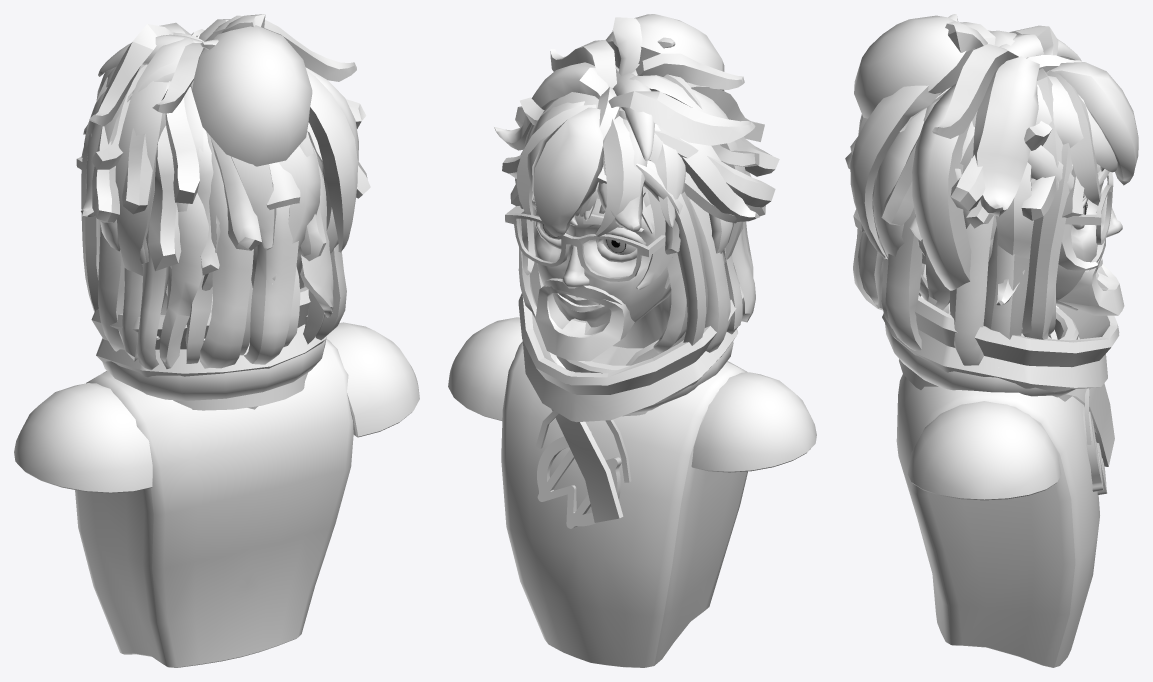
File: avatar.gltf
3 views of the same model, side by side, from view 1: azimuth 30°, elevation 25°; view 2: azimuth 150°, elevation 25°; view 3: azimuth 270°, elevation 25° (orthographic). The views are drawn at different scales.
Visible parts, largest first — view 1: buste, coupe-3, coupe-5, coupe-2, coupe-1, col-3, col-1, coupe-4, col-4, coupe-6; view 2: buste, coupe-5, col-1, coupe-3, tete, coupe-2, coupe-4, barbe-1, col-4, coupe-1, logo, accessoire1-1 (+2 smaller); view 3: buste, coupe-5, coupe-3, col-1, coupe-1, coupe-2, coupe-4, col-3, col-4, tete, barbe-1, accessoire1-1 (+1 smaller).
Boxes of the visible parts, x1,y1,x2,y2 form: buste: [14, 322, 419, 667]; coupe-3: [81, 131, 346, 370]; coupe-5: [81, 14, 358, 339]; coupe-2: [84, 64, 370, 275]; coupe-1: [192, 25, 312, 166]; col-3: [102, 337, 326, 400]; col-1: [91, 286, 327, 377]; coupe-4: [81, 32, 218, 157]; col-4: [173, 373, 307, 410]; coupe-6: [266, 162, 300, 209]; buste: [448, 317, 816, 667]; coupe-5: [494, 17, 759, 289]; col-1: [518, 284, 743, 422]; coupe-3: [518, 160, 755, 353]; tete: [532, 193, 671, 348]; coupe-2: [502, 82, 779, 254]; coupe-4: [523, 37, 702, 230]; barbe-1: [535, 285, 634, 361]; col-4: [551, 353, 647, 522]; coupe-1: [533, 14, 724, 288]; logo: [537, 431, 621, 528]; accessoire1-1: [505, 206, 665, 281]; buste: [896, 374, 1099, 667]; coupe-5: [850, 21, 1138, 310]; coupe-3: [853, 143, 1104, 365]; col-1: [882, 264, 1119, 392]; coupe-1: [854, 15, 1072, 218]; coupe-2: [845, 87, 1084, 242]; coupe-4: [923, 14, 1117, 197]; col-3: [885, 278, 1091, 444]; col-4: [899, 307, 1114, 466]; tete: [948, 165, 1122, 333]; barbe-1: [1057, 256, 1124, 315]; accessoire1-1: [1065, 172, 1113, 244].
Size of the model in its own units: 0.6714 by 1.1 by 0.4643.
1 material, 1 textured.
